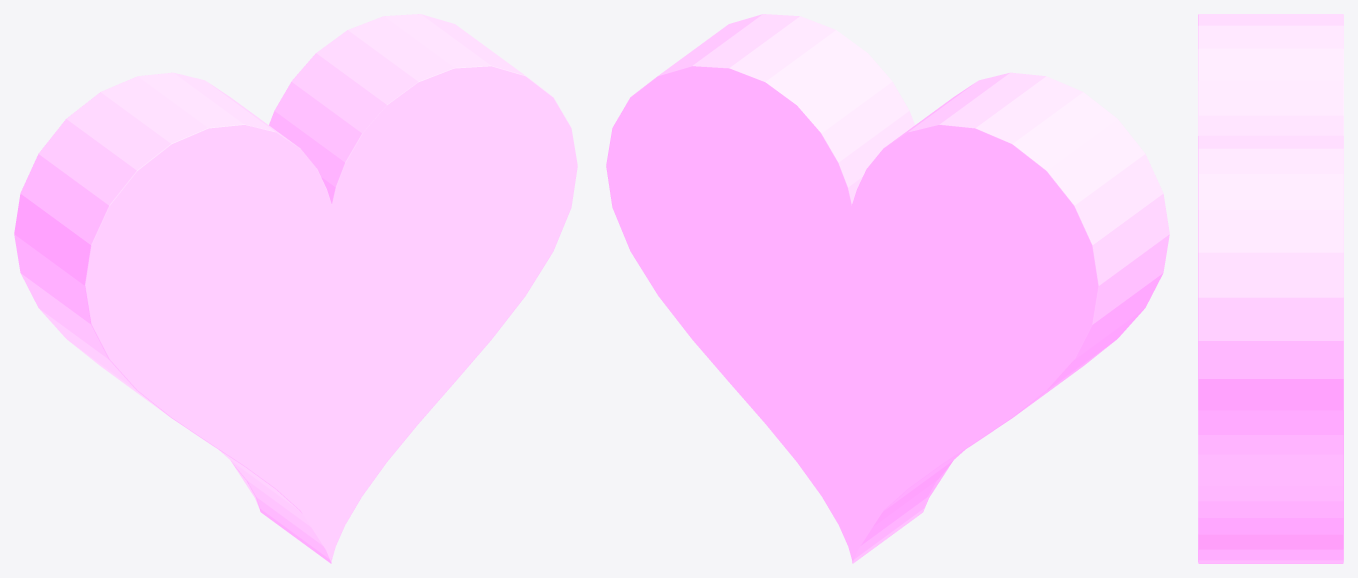
File: Heart.fbx
3 renders of one model, left to right at view 1: azimuth 30°, elevation 25°; view 2: azimuth 150°, elevation 25°; view 3: azimuth 270°, elevation 25°, orthographic. The views are drawn at different scales.
Parts seen in each view (by area): view 1: Heart; view 2: Heart; view 3: Heart.
Part boxes in pixels (left/top/right/bottom): Heart: left=14, top=14, right=577, bottom=563; Heart: left=606, top=14, right=1169, bottom=563; Heart: left=1198, top=14, right=1343, bottom=563.
Size of the model in its own units: 0.032 by 0.0289 by 0.008.
